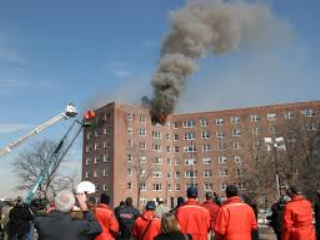fire: (157, 113, 166, 123)
smoke: (148, 6, 259, 110)
